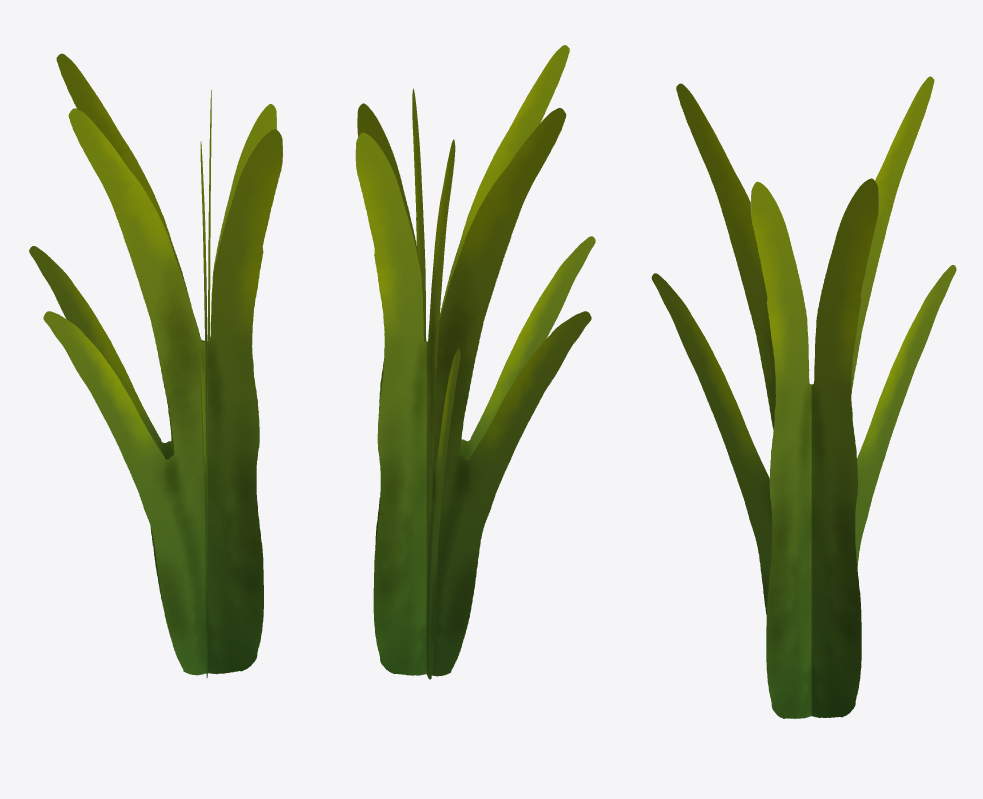
The model's file is AlgaSub_03.fbx.
3 views of the same model, side by side, from view 1: azimuth 30°, elevation 25°; view 2: azimuth 150°, elevation 25°; view 3: azimuth 270°, elevation 25° (orthographic).
Visible parts, largest first — view 1: ALGA_03C; view 2: ALGA_03C; view 3: ALGA_03C.
Part boxes in pixels (x1=…): ALGA_03C: x1=29, y1=53, x2=283, y2=678; ALGA_03C: x1=355, y1=45, x2=595, y2=679; ALGA_03C: x1=651, y1=76, x2=956, y2=718.
Size of the model in its own units: 19.66 by 44.82 by 20.97.
